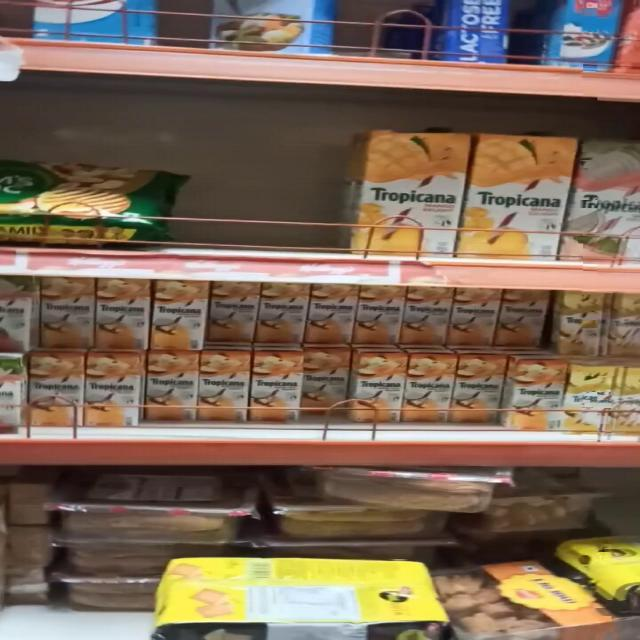Tropicana: (360, 119, 482, 254), (472, 118, 583, 262), (20, 352, 80, 427), (250, 278, 310, 349), (148, 276, 204, 348), (35, 280, 95, 346), (86, 353, 140, 426), (94, 278, 148, 350), (145, 353, 200, 423), (355, 349, 408, 420), (248, 356, 308, 418), (402, 350, 454, 420), (510, 363, 564, 428), (302, 348, 358, 410), (565, 362, 616, 430), (203, 279, 258, 342), (448, 283, 501, 348), (496, 286, 550, 349), (199, 350, 249, 418), (558, 293, 611, 355), (455, 358, 505, 421), (352, 284, 406, 342), (404, 284, 451, 343), (309, 285, 352, 343)
